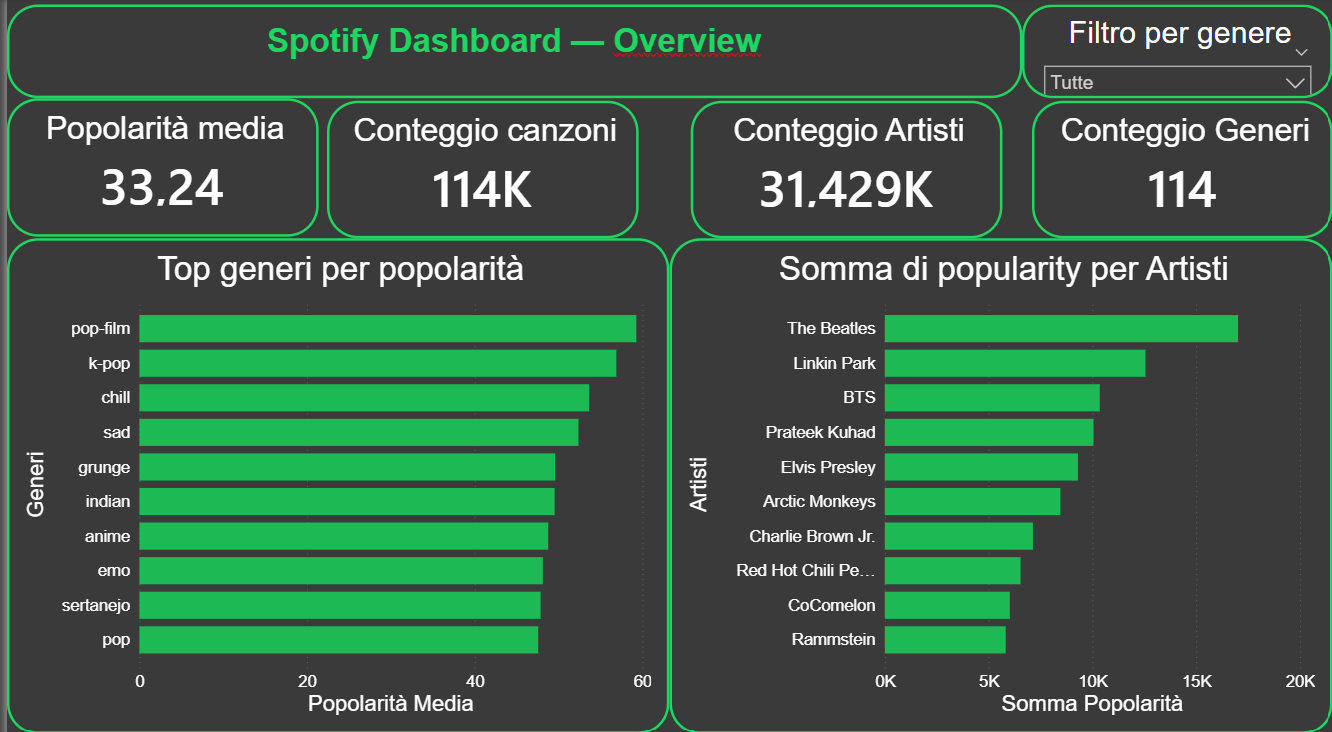

The dashboard page shown, as its layout file describes it:
{"tool":"powerbi","page":{"name":"Overview","canvas":[1280,720],"ordinal":0},"visuals":[{"type":"cardVisual","title":"Popolarità media","fields":{"Data":["Avg(spotify_tracks.popularity)"]},"box":[87.1,90,280,134.3],"z":0},{"type":"cardVisual","title":"Conteggio Artisti","fields":{"Data":["Count(spotify_tracks.Artisti)"]},"box":[647.1,90,280,134.3],"z":1000},{"type":"cardVisual","title":"Conteggio canzoni","fields":{"Data":["CountNonNull(spotify_tracks.track_id)"]},"box":[367.1,90,280,134.3],"z":2000},{"type":"cardVisual","title":"Conteggio Generi","fields":{"Data":["Count(spotify_tracks.track_genre)"]},"box":[915.7,90,280,134.3],"z":3000},{"type":"clusteredBarChart","title":"Top generi per popolarità","fields":{"Category":["spotify_tracks.track_genre"],"Y":["Avg(spotify_tracks.popularity)"]},"box":[0,225,640,495],"z":4000},{"type":"clusteredBarChart","fields":{"Category":["spotify_tracks.Artisti"],"Y":["Sum(spotify_tracks.popularity)"]},"box":[640,224.3,640,495.7],"z":5000},{"type":"slicer","title":"Filtro per genere","fields":{"Values":["spotify_tracks.track_genre"]},"box":[980,0,300,90],"z":6000},{"type":"textbox","box":[395,0,490,45],"z":7000}]}

Visuals, with their boxes in screenshot pixels (x1, y1, x2, y2), scaled from the page's 1280x720 canvas onto the 1332x732 screenshot:
"Popolarità media" cardVisual: {"left": 91, "top": 92, "right": 382, "bottom": 228}
"Conteggio Artisti" cardVisual: {"left": 673, "top": 92, "right": 965, "bottom": 228}
"Conteggio canzoni" cardVisual: {"left": 382, "top": 92, "right": 673, "bottom": 228}
"Conteggio Generi" cardVisual: {"left": 953, "top": 92, "right": 1244, "bottom": 228}
"Top generi per popolarità" clusteredBarChart: {"left": 0, "top": 229, "right": 666, "bottom": 731}
clusteredBarChart - spotify_tracks.Artisti x Sum(spotify_tracks.popularity): {"left": 666, "top": 228, "right": 1331, "bottom": 731}
"Filtro per genere" slicer: {"left": 1020, "top": 0, "right": 1331, "bottom": 92}
textbox: {"left": 411, "top": 0, "right": 921, "bottom": 46}
